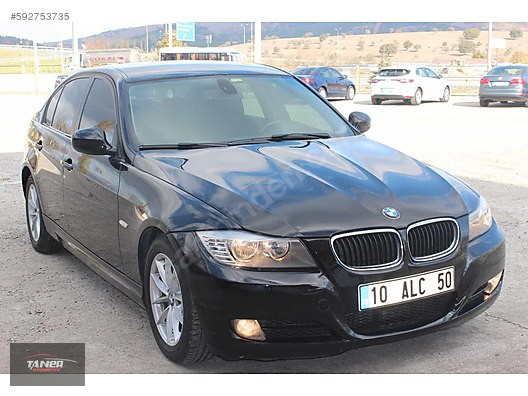bmw: (16, 57, 510, 370)
